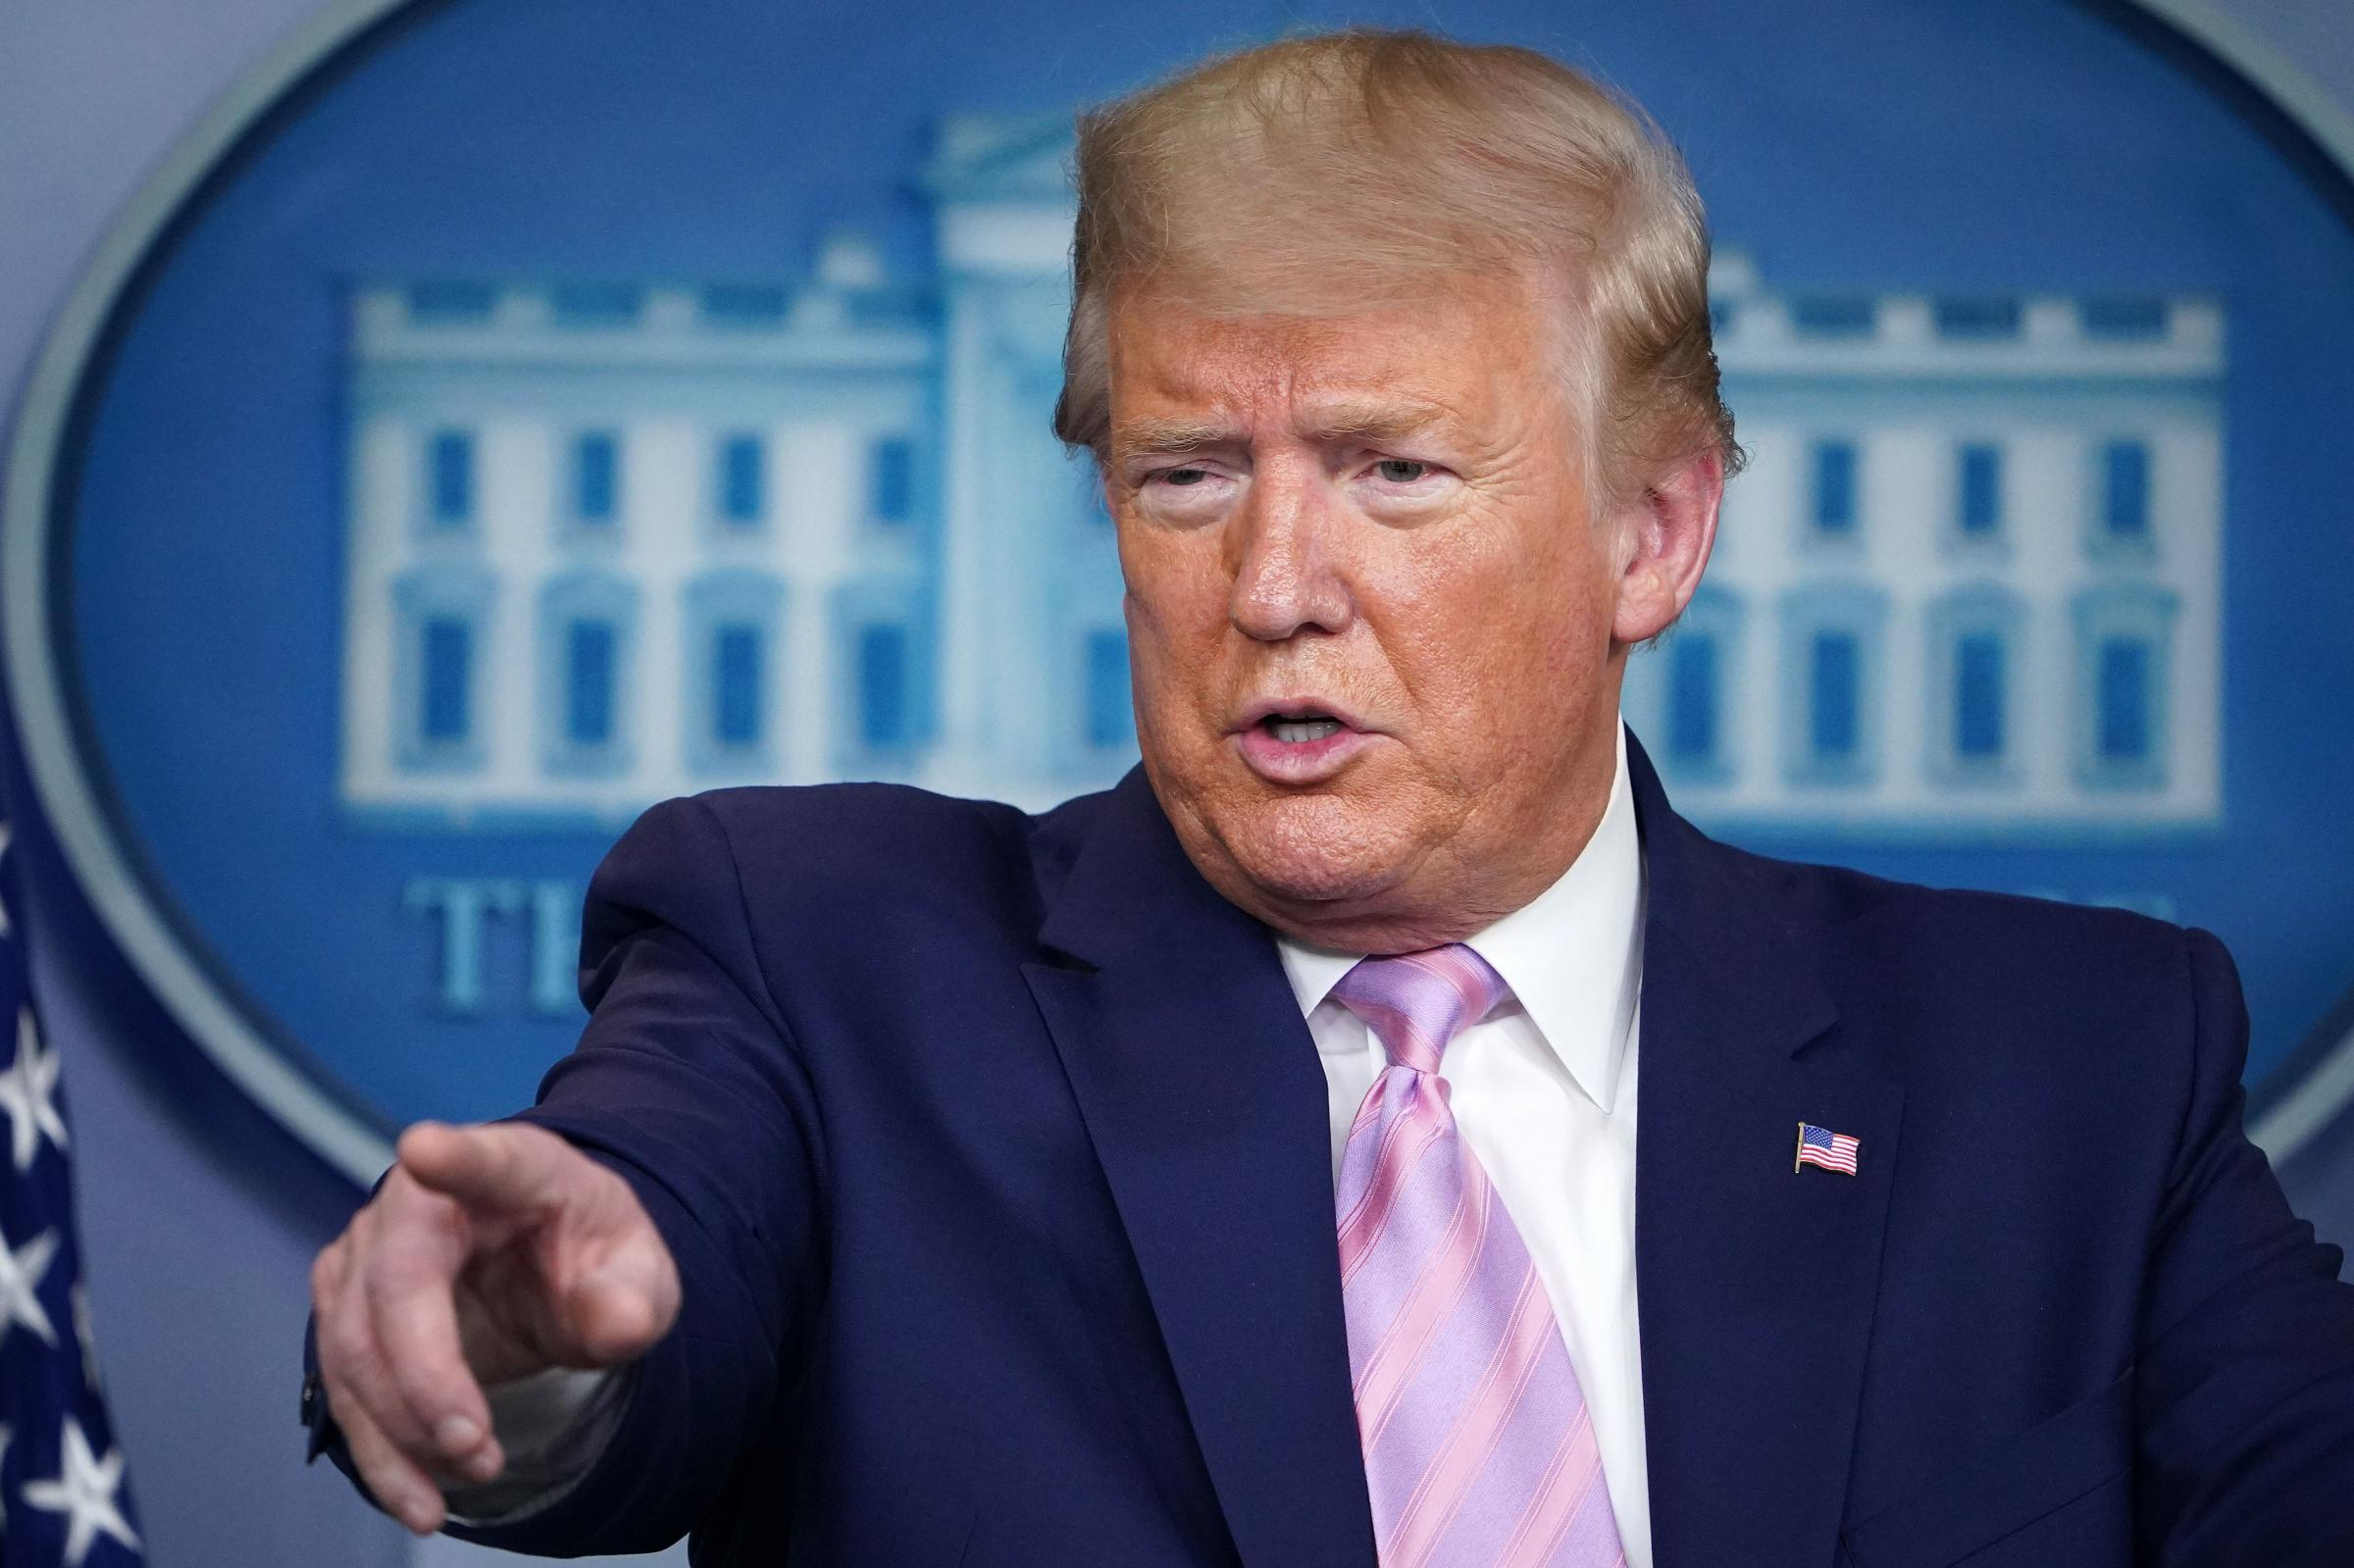without_mask: (1092, 171, 1568, 859)
